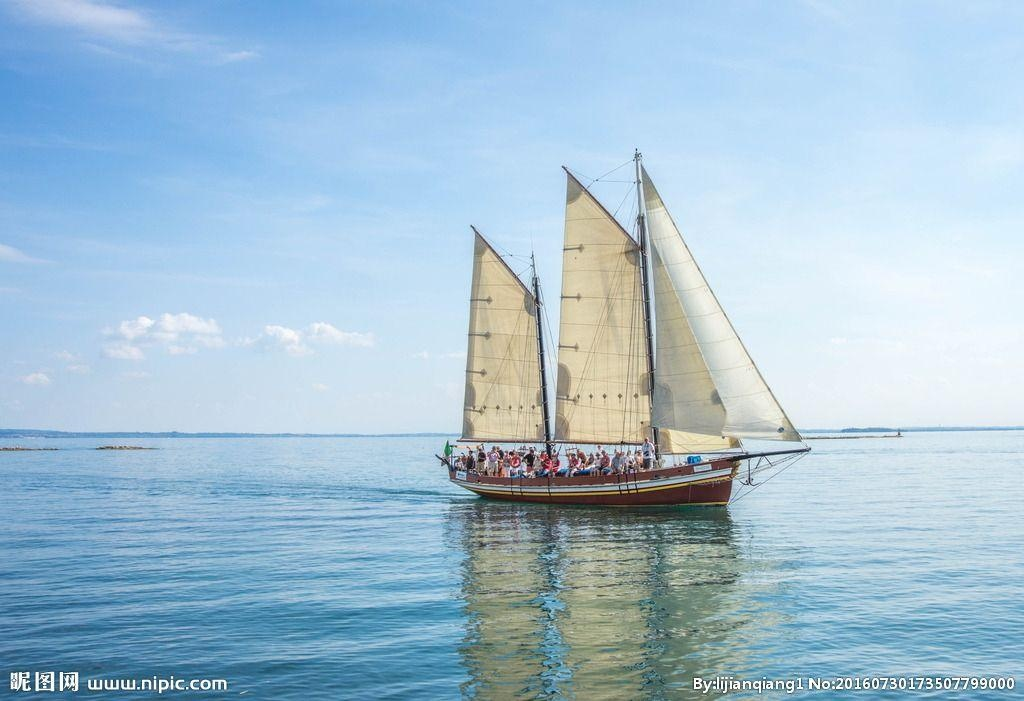fanchuan: (425, 144, 810, 512)
